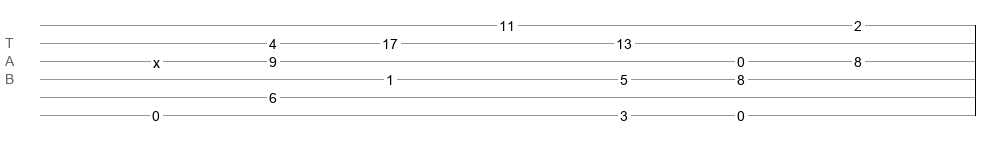0: (152, 108, 160, 118), (737, 108, 745, 118), (737, 54, 745, 64)
1: (386, 72, 394, 82)
11: (499, 18, 515, 28)
13: (616, 36, 632, 46)
17: (382, 36, 398, 46)
2: (854, 18, 862, 28)
3: (620, 108, 628, 118)
4: (269, 36, 277, 46)
5: (620, 72, 628, 82)
6: (269, 90, 277, 100)
8: (737, 72, 745, 82), (854, 54, 862, 64)
9: (269, 54, 277, 64)
x: (153, 55, 160, 63)
